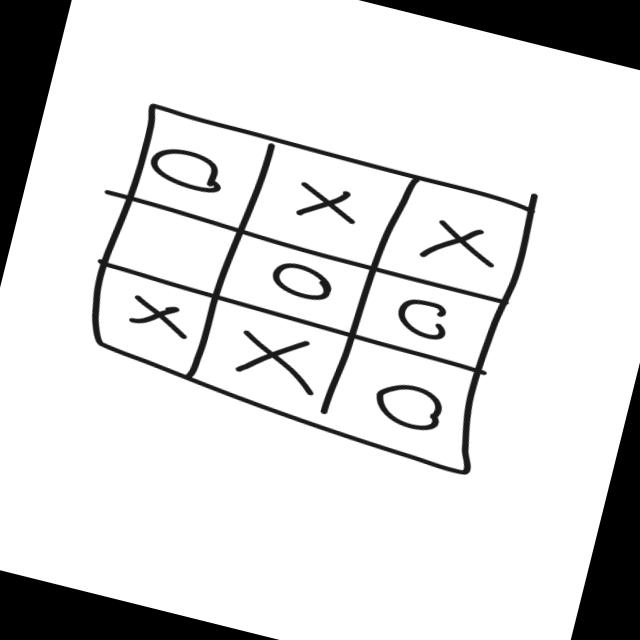O: (143, 135, 236, 204), (377, 286, 469, 354), (247, 249, 346, 312), (364, 372, 448, 443)
X: (210, 310, 328, 406), (281, 162, 378, 244), (417, 196, 512, 274), (111, 284, 202, 344)
grid: (61, 97, 544, 487)
